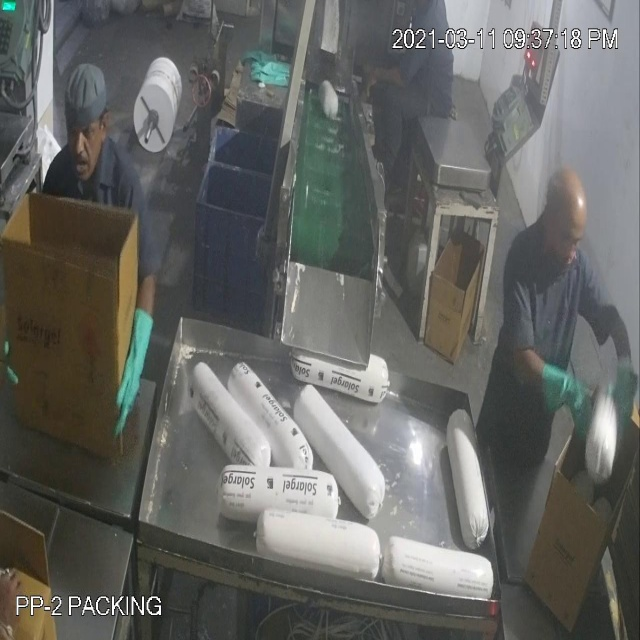Guantes: (106, 306, 159, 443), (539, 354, 614, 441)
Sin_guantes: (359, 48, 418, 111)
